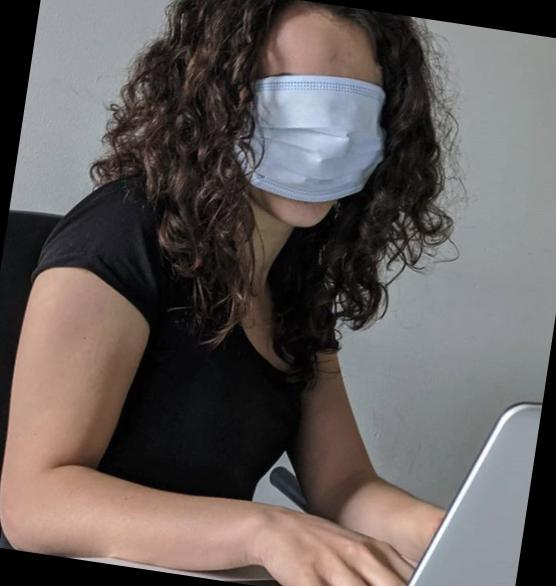mask_weared_incorrect: (236, 44, 408, 243)
